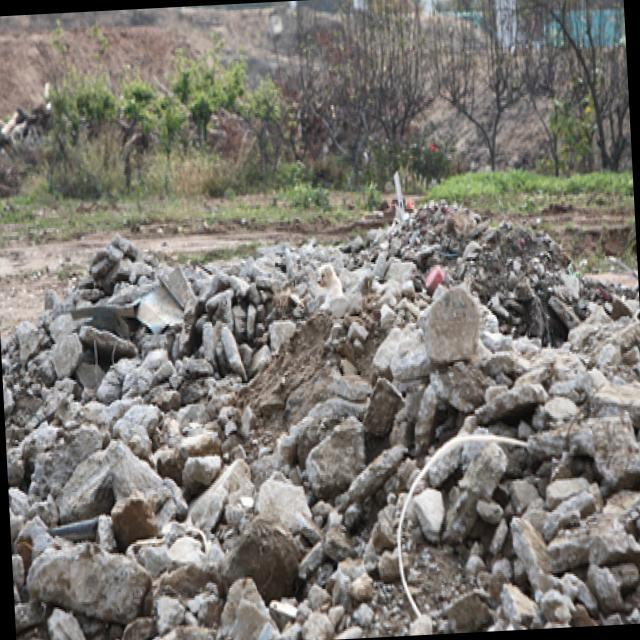grass: (0, 184, 396, 245), (404, 169, 635, 218)
red-sand: (0, 231, 117, 336), (489, 194, 638, 265), (121, 220, 354, 260)
rocks: (1, 202, 640, 640)
